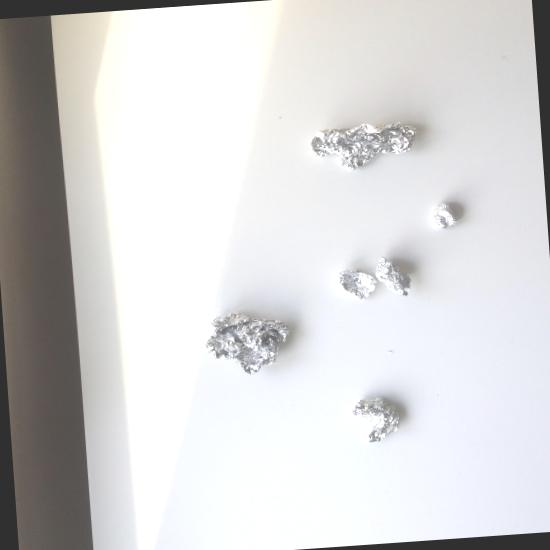Aluminium foil: (205, 311, 290, 375), (310, 121, 417, 170), (351, 397, 399, 442), (372, 256, 411, 296), (335, 268, 378, 299), (431, 202, 457, 229)
